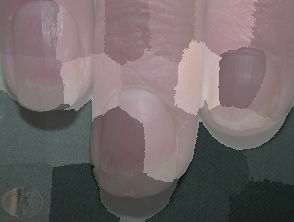Nail_psoriasis: (87, 108, 205, 207), (6, 28, 92, 120), (203, 80, 294, 143)
